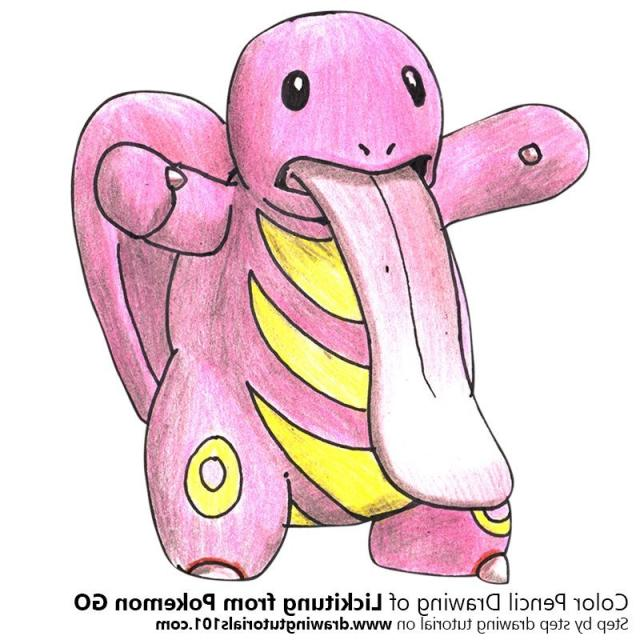Lickitung: (119, 5, 527, 584)
